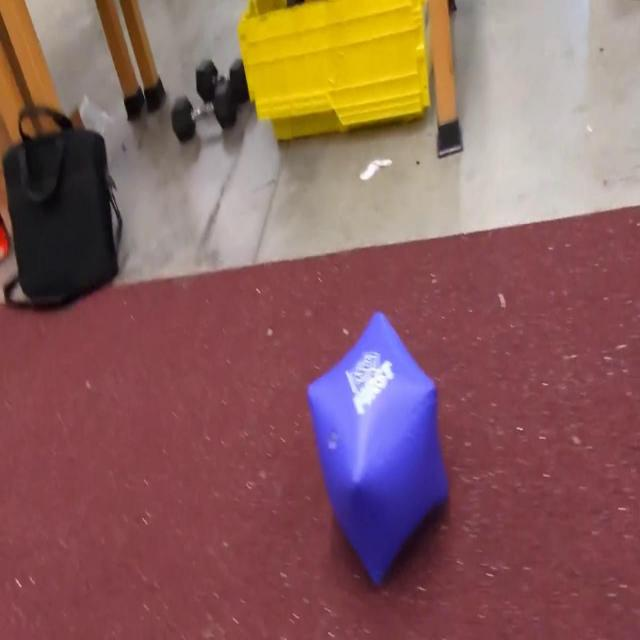frc_cube: (306, 311, 450, 588)
